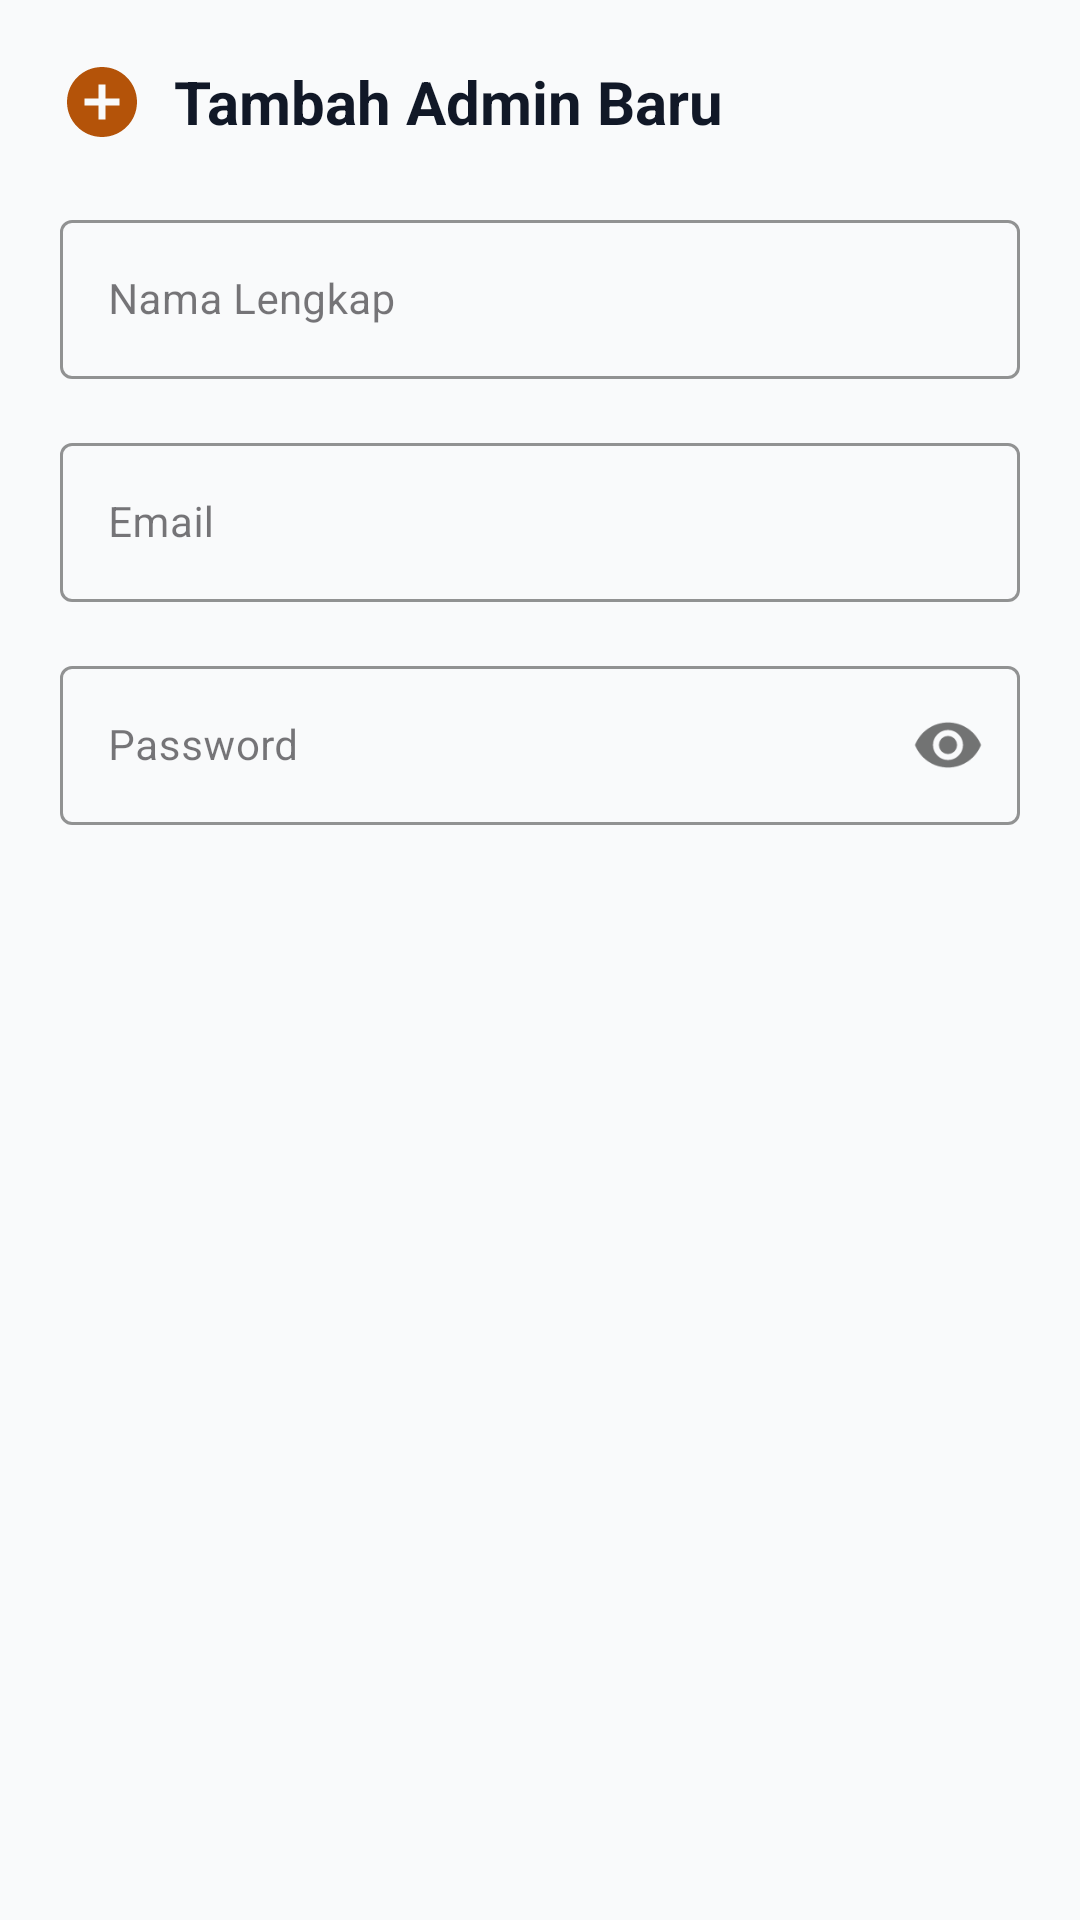

Icon bounding boxes for this 1080x1920 phone screenshot, format bbox=[x1, y1, x2, y2]:
add circle: bbox=[67, 67, 137, 137]
